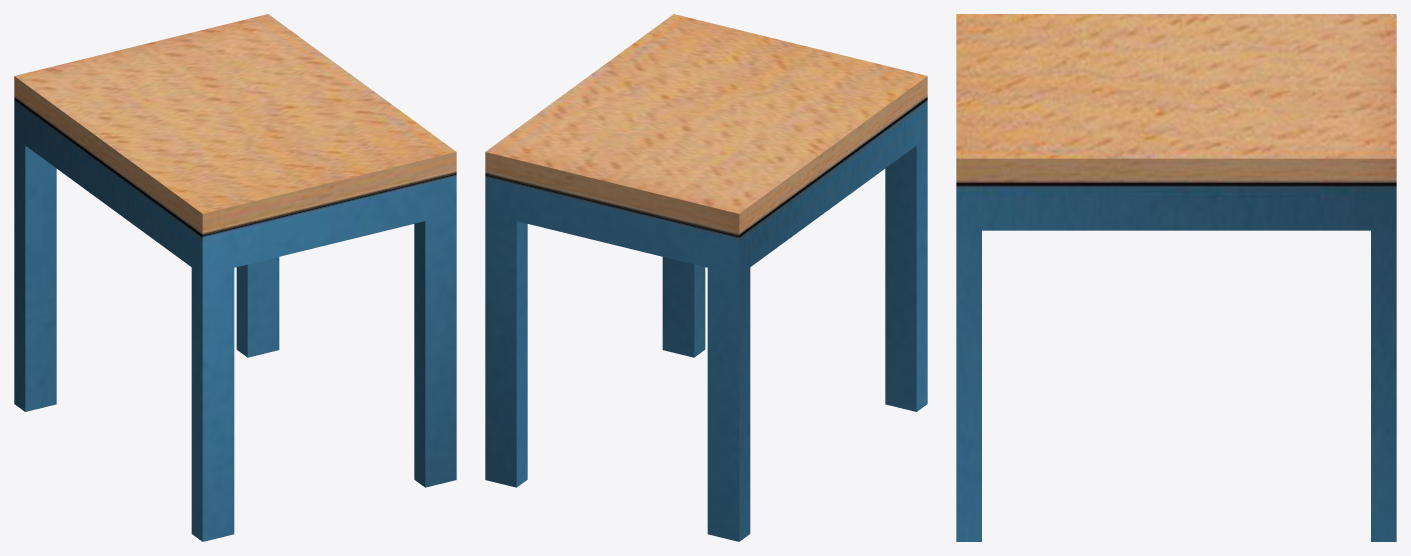
Rendered from workingTable2.glb.
The picture shows the model from 3 angles, left to right: view 1: azimuth 30°, elevation 25°; view 2: azimuth 150°, elevation 25°; view 3: azimuth 270°, elevation 25°; orthographic projection. The views are drawn at different scales.
Parts seen in each view (by area): view 1: Asset3DLoader.sceneRoot; view 2: Asset3DLoader.sceneRoot; view 3: Asset3DLoader.sceneRoot.
Part boxes in pixels (box(x1,y1,x2,y2)): Asset3DLoader.sceneRoot: box(14, 14, 456, 541); Asset3DLoader.sceneRoot: box(485, 14, 927, 541); Asset3DLoader.sceneRoot: box(956, 14, 1396, 541).
Size of the model in its own units: 700 by 864 by 900.
1 material, 1 textured.
